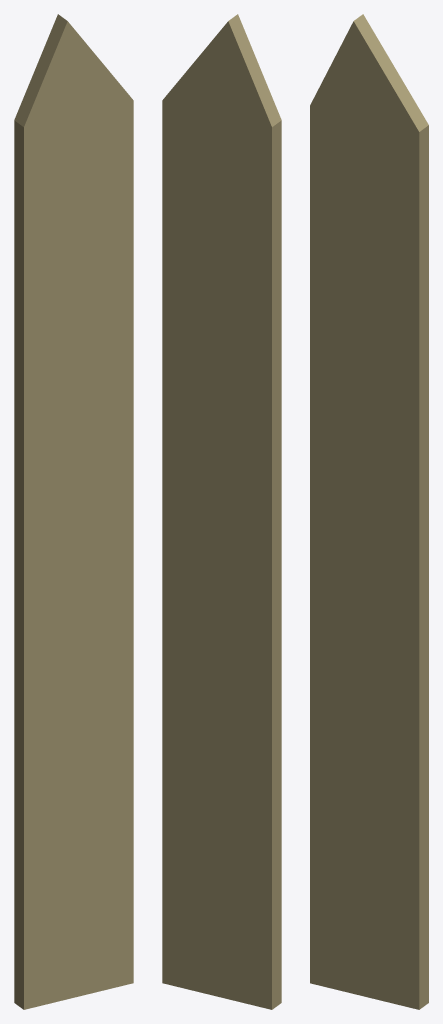
File: Fence(6).fbx
The picture shows the model from 3 angles, left to right: view 1: azimuth 30°, elevation 25°; view 2: azimuth 150°, elevation 25°; view 3: azimuth 330°, elevation 25°; orthographic projection.
Visible parts, largest first — view 1: Cube.061; view 2: Cube.061; view 3: Cube.061.
Boxes of the visible parts, x1,y1,x2,y2 form: Cube.061: [14, 14, 133, 1009]; Cube.061: [162, 14, 281, 1009]; Cube.061: [310, 14, 428, 1009].
Size of the model in its own units: 20.2 by 172 by 3.09.
Materials: 1 (1 with a texture image).
